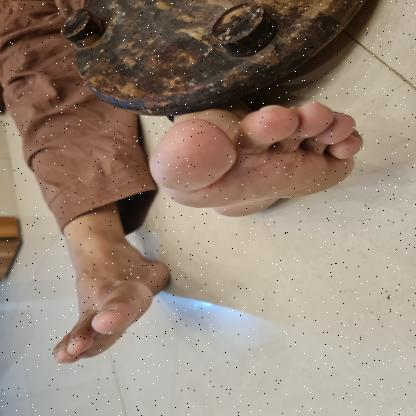leg: (140, 92, 372, 238), (44, 199, 176, 378)
